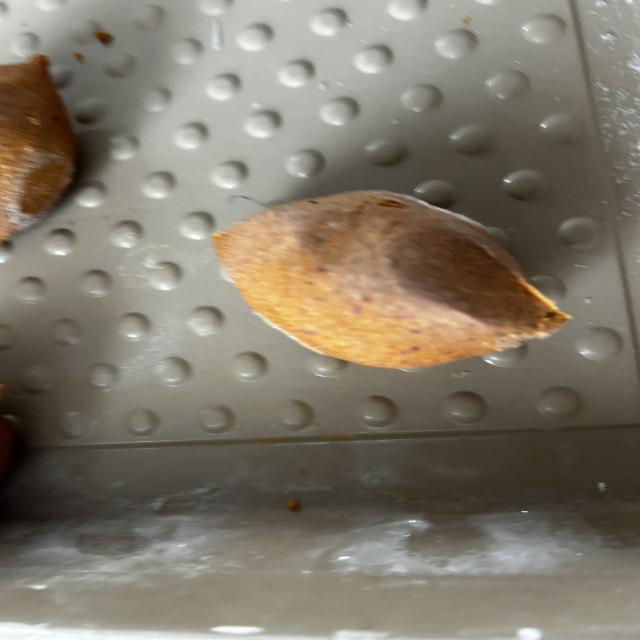kobi: (209, 188, 572, 370)
